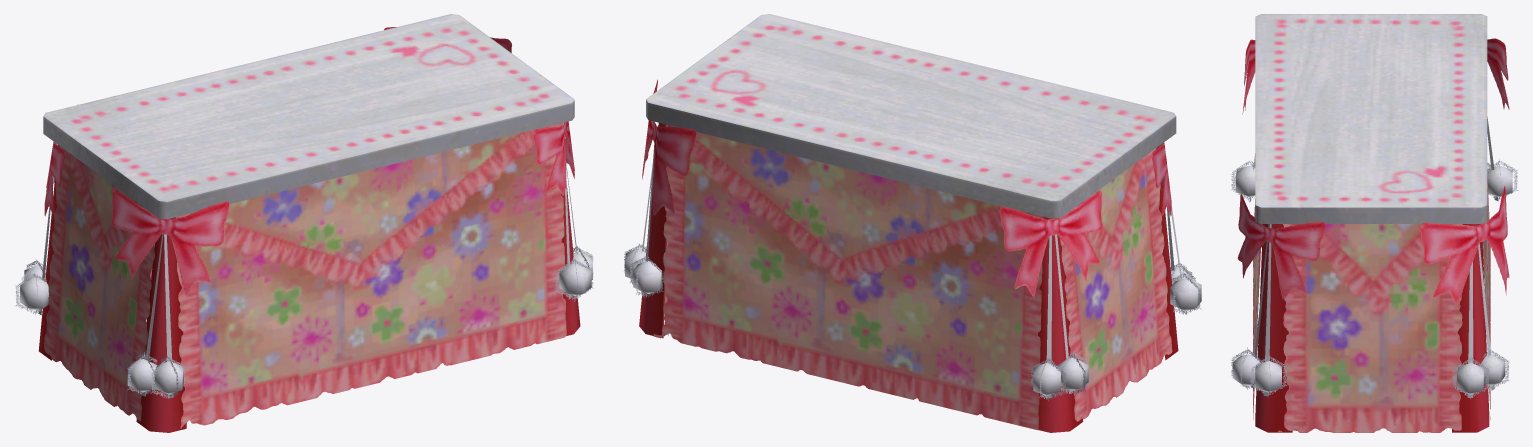
The model's file is furni_0200011-1.fbx.
3 renders of one model, left to right at view 1: azimuth 30°, elevation 25°; view 2: azimuth 150°, elevation 25°; view 3: azimuth 270°, elevation 25°, orthographic. The views are drawn at different scales.
Visible parts, largest first — view 1: furni_0200011-1; view 2: furni_0200011-1; view 3: furni_0200011-1.
Part boxes in pixels (x1=…): furni_0200011-1: x1=14, y1=14, x2=593, y2=432; furni_0200011-1: x1=624, y1=14, x2=1201, y2=432; furni_0200011-1: x1=1231, y1=14, x2=1518, y2=432.
Bounding box in the file's own units: 172 × 80.05 × 94.92.
1 material, 1 textured.
